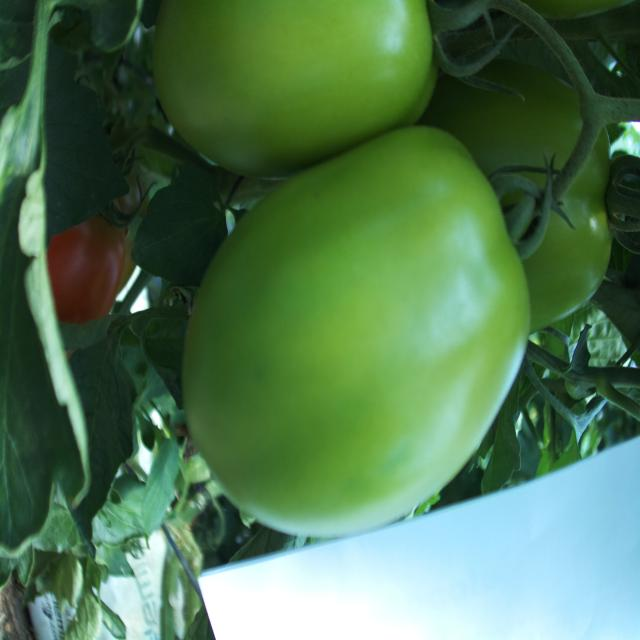yesil: (152, 0, 538, 533)
